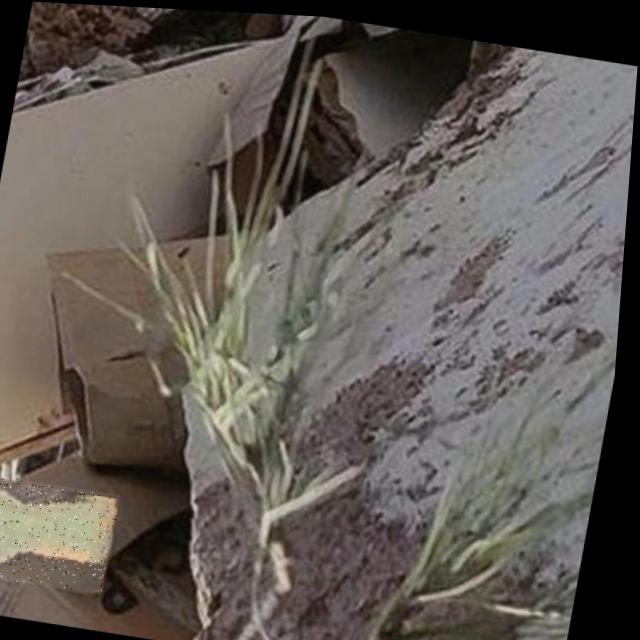Person in Rubble: (0, 468, 129, 592)
